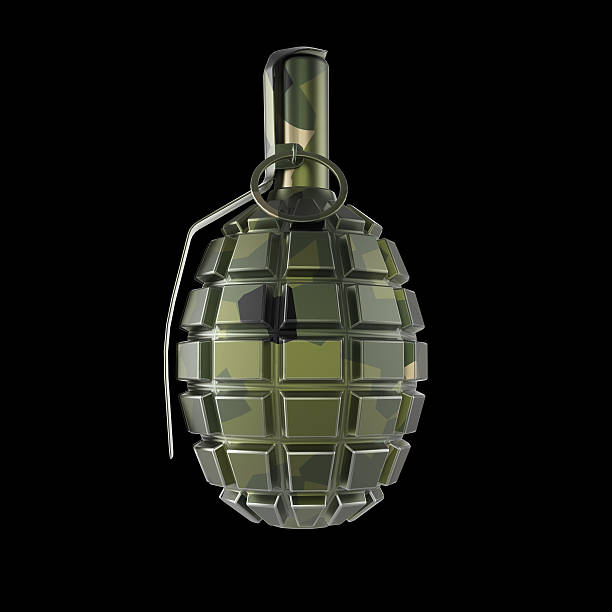e1: (160, 43, 430, 531)
